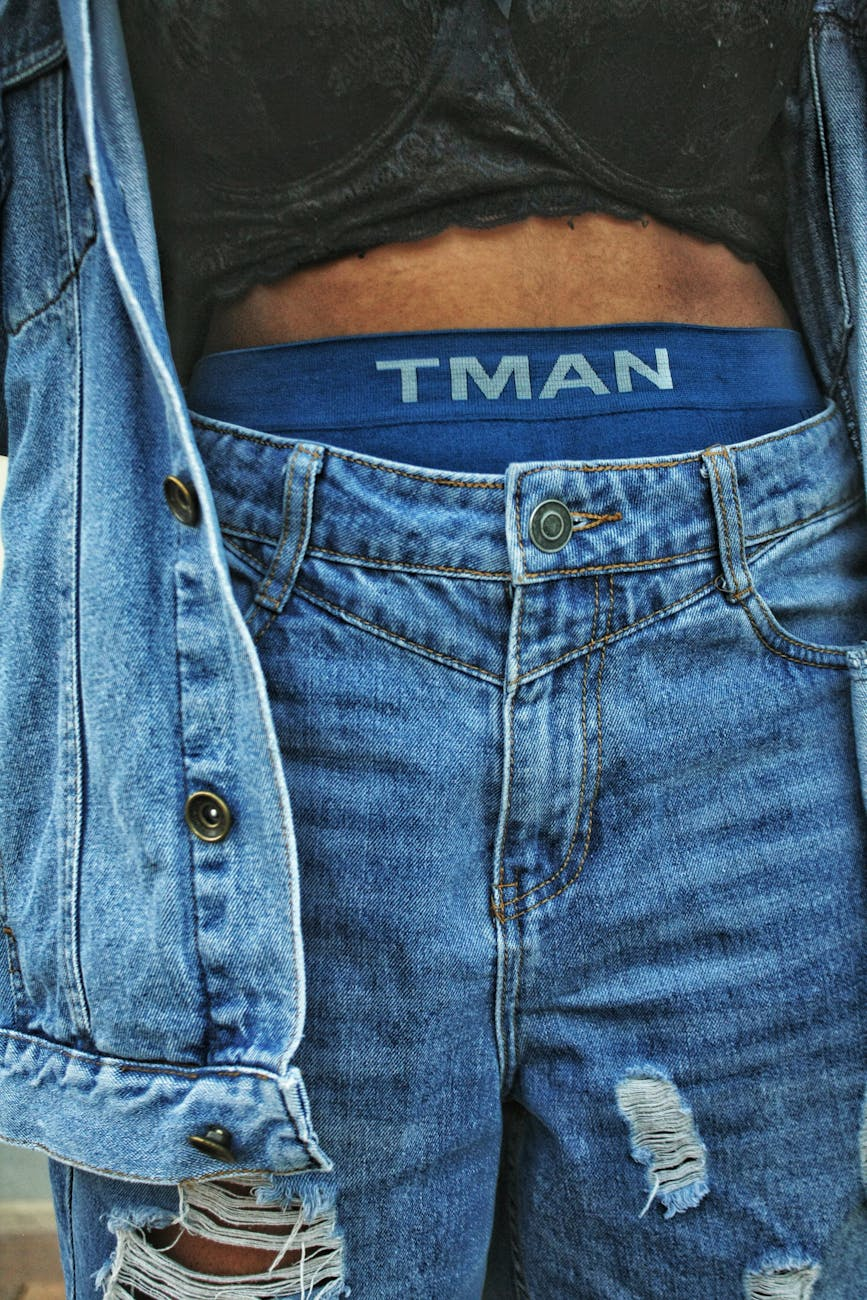ripped_jeans: (76, 437, 858, 1287)
